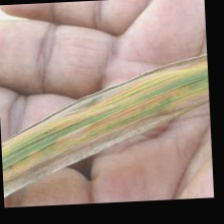Leaf_Blast: (0, 60, 203, 179)
